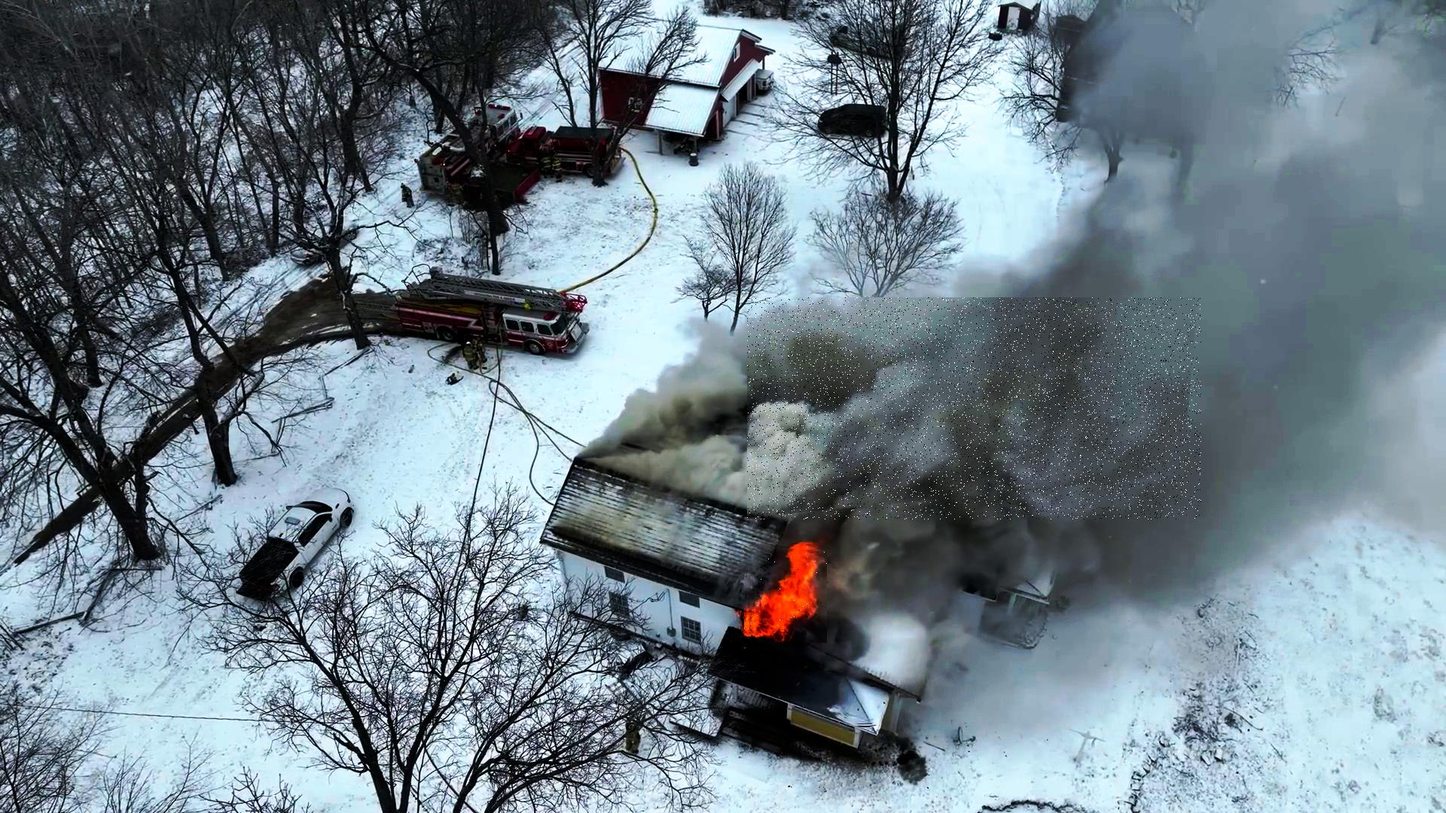fire: (745, 544, 829, 643)
smoke: (747, 297, 1201, 520)
